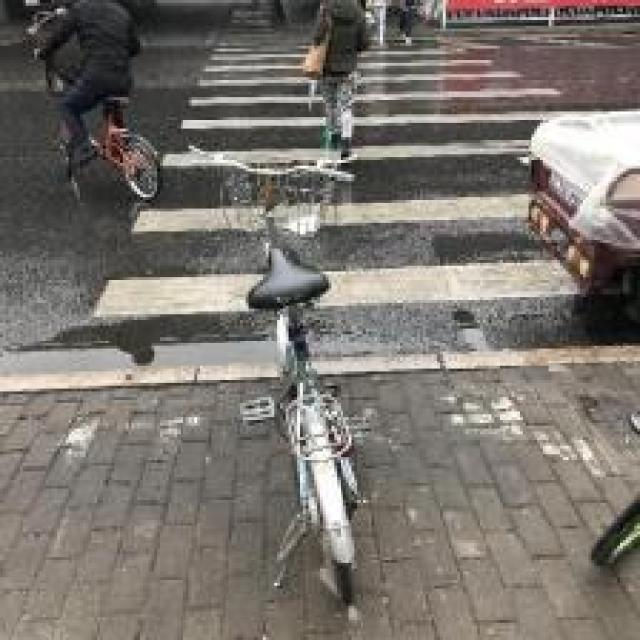crosswalk: (94, 9, 626, 325)
